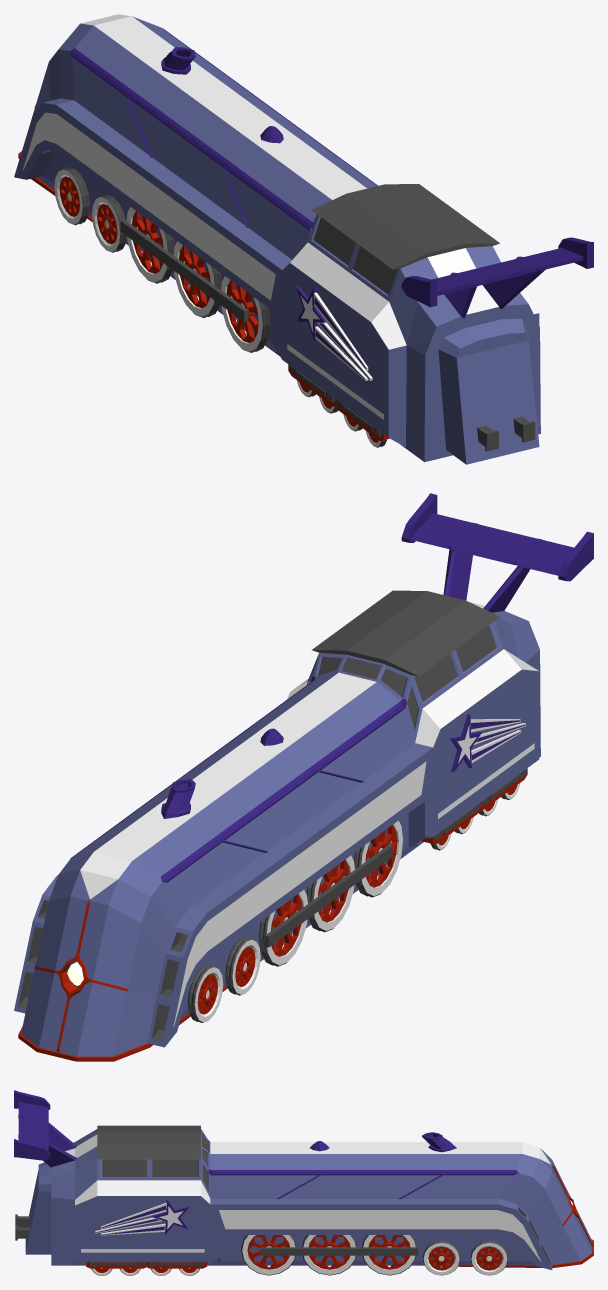
Rendered from train1.fbx.
3 views of the same model, one above another, from view 1: azimuth 30°, elevation 25°; view 2: azimuth 150°, elevation 25°; view 3: azimuth 270°, elevation 25° (orthographic). The views are drawn at different scales.
Parts seen in each view (by area): view 1: Train; view 2: Train; view 3: Train.
Part boxes in pixels (<box>): Train: <box>14,14,593,464</box>; Train: <box>14,493,593,1061</box>; Train: <box>14,1090,593,1275</box>.
Size of the model in its own units: 221 by 281 by 1062.
